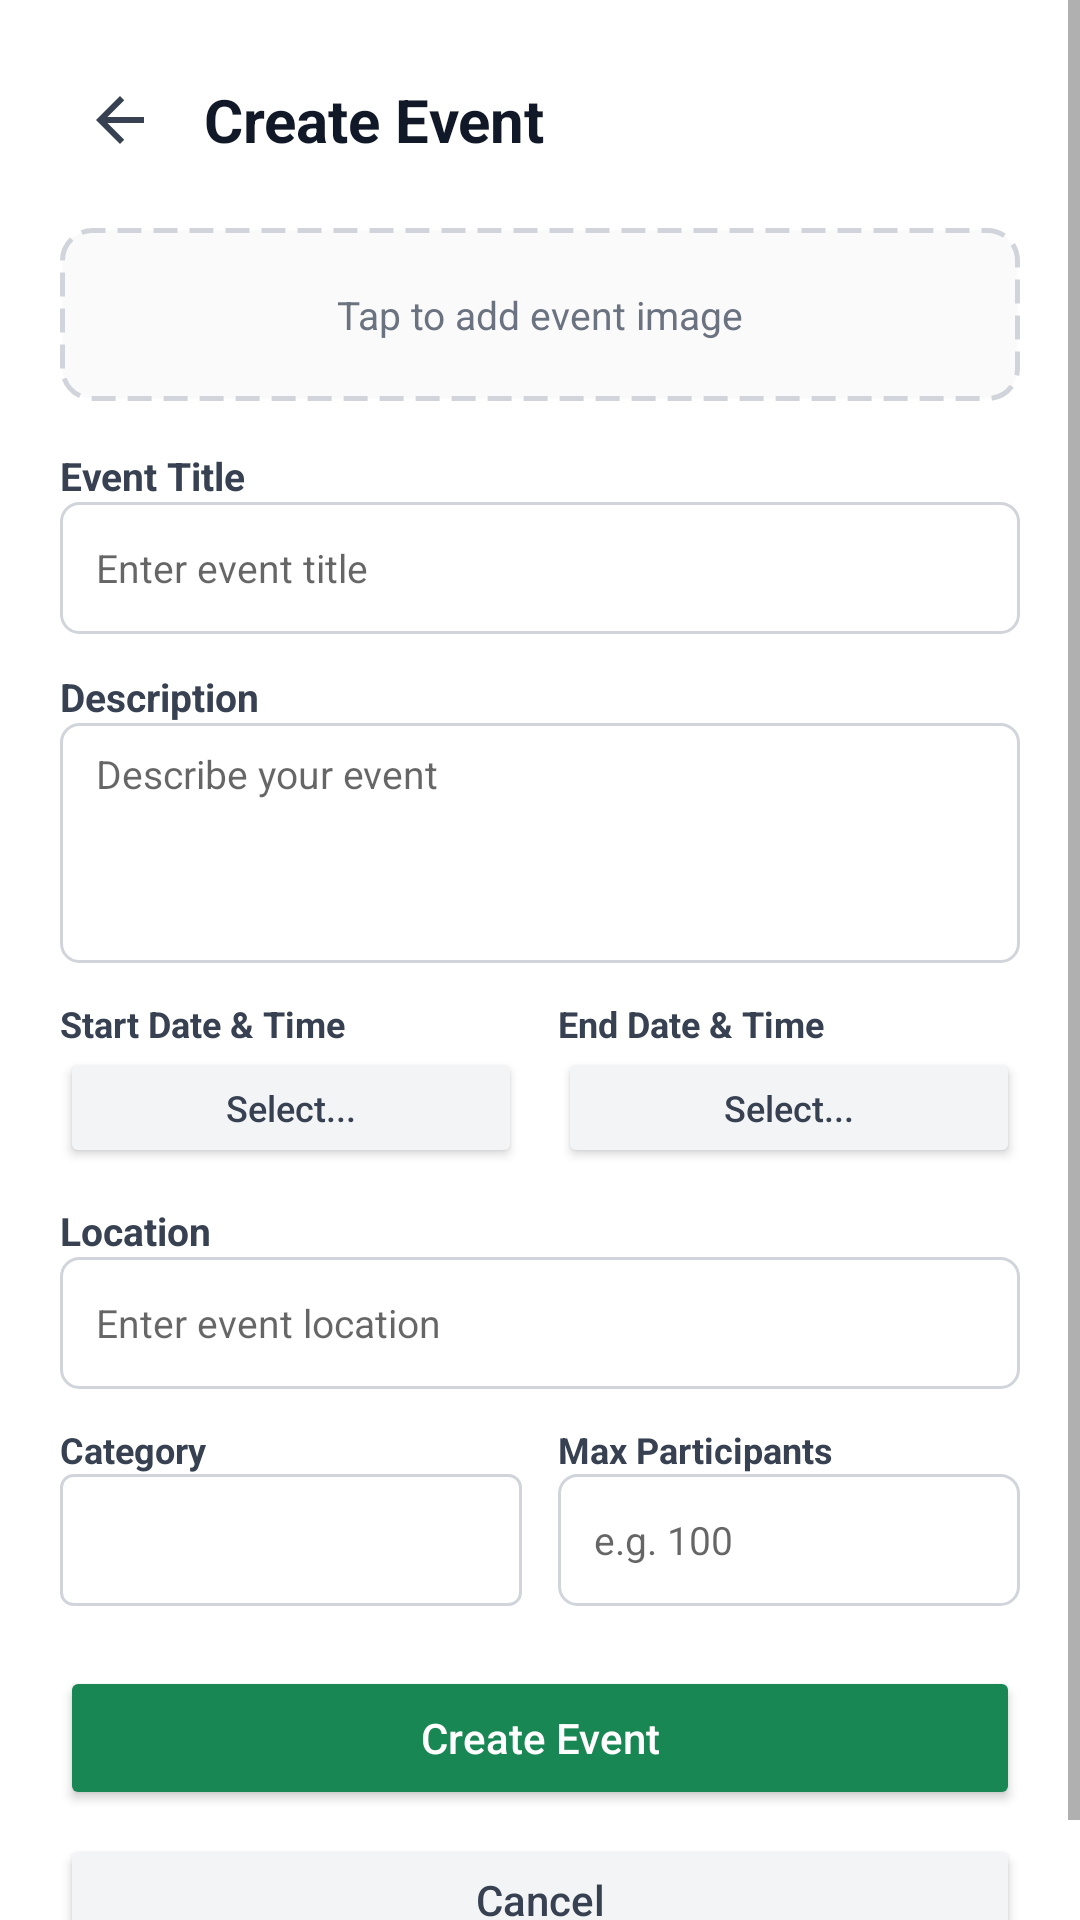

Icons on this 1080 x 1920 Android screen, each with the point to tap as point (x, y):
arrow back: point (120, 120)
